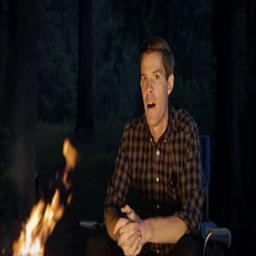fire: (12, 190, 64, 256), (62, 138, 77, 187)
